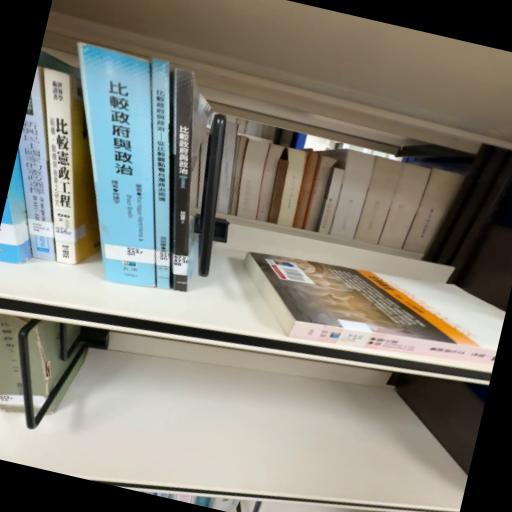flat: (244, 252, 505, 367)
